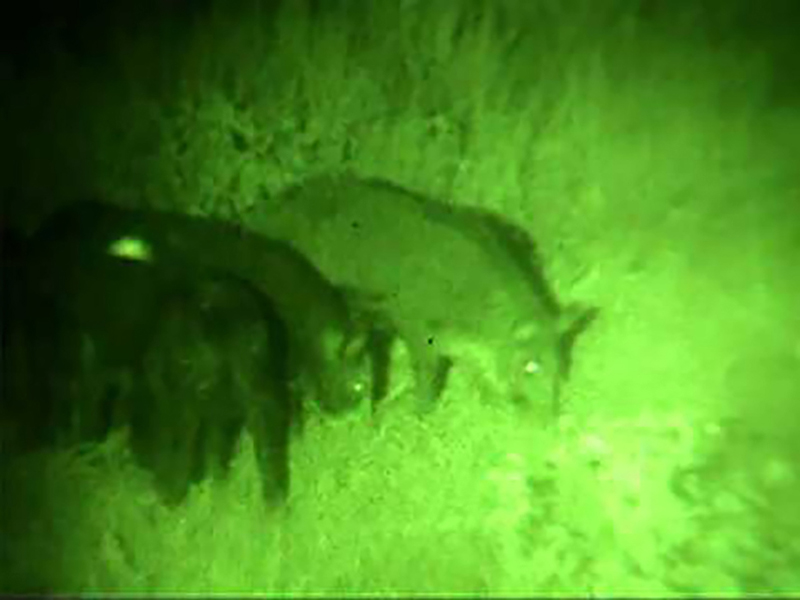cinghiale: (242, 175, 609, 436), (12, 257, 306, 539), (48, 181, 384, 399)
